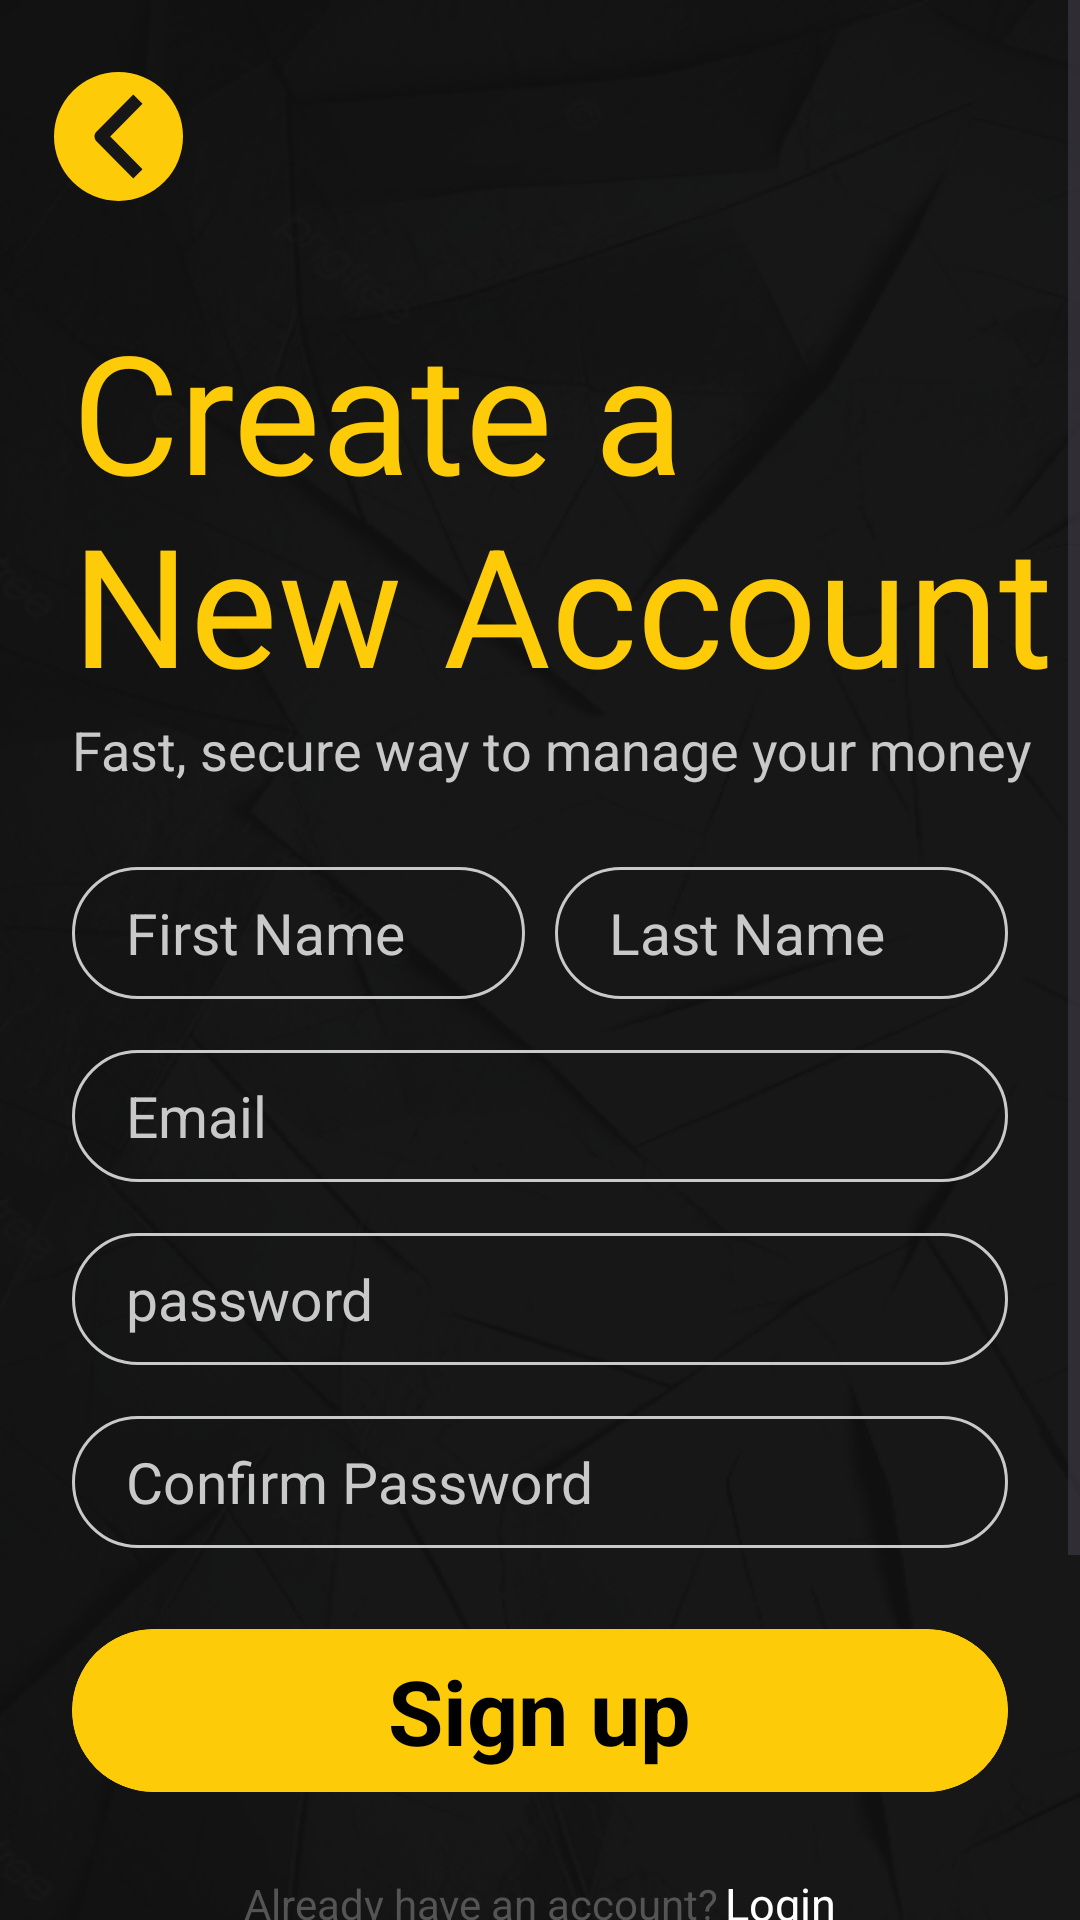

Where icons sit on this 1080×1920 app screen, as (x1, y1, x2, y2):
back: (54, 72, 183, 201)
